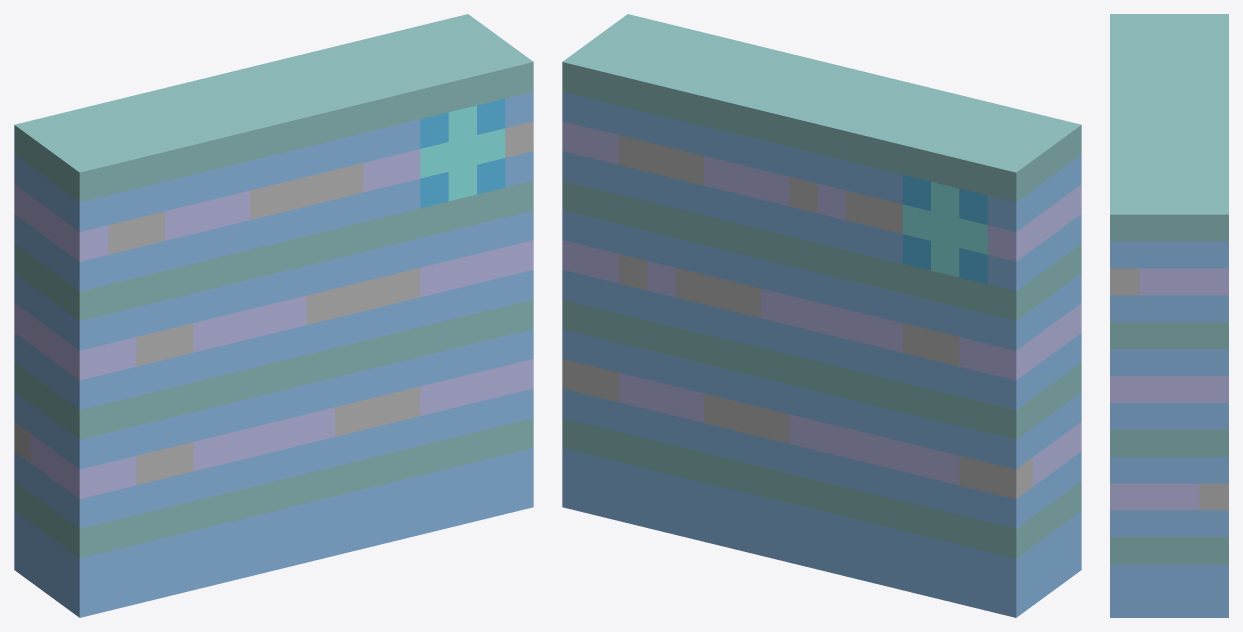
Rendered from door.fbx.
3 renders of one model, left to right at view 1: azimuth 30°, elevation 25°; view 2: azimuth 150°, elevation 25°; view 3: azimuth 270°, elevation 25°, orthographic. The views are drawn at different scales.
Visible parts, largest first — view 1: 对象; view 2: 对象; view 3: 对象.
Part boxes in pixels (box(x1,y1,x2,y2)): 对象: box(14, 14, 533, 617); 对象: box(562, 14, 1081, 617); 对象: box(1110, 14, 1228, 617).
Size of the model in its own units: 16 by 15 by 4.
1 material, 1 textured.
